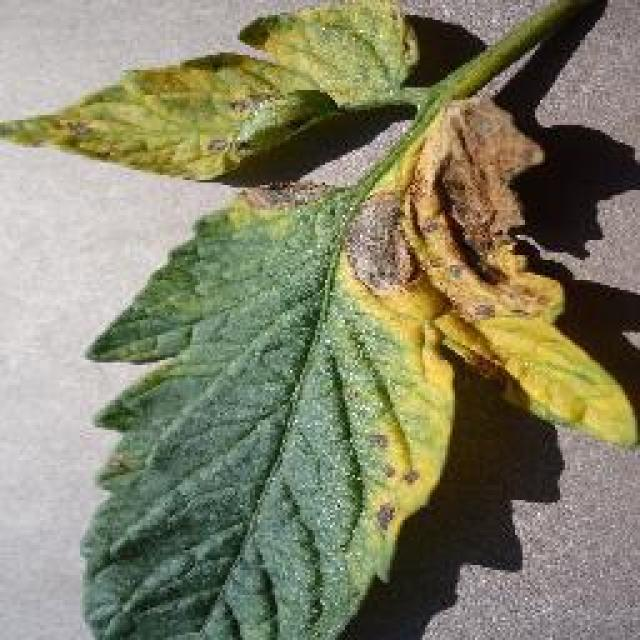Tomato___Early_blight: (0, 0, 638, 638)
